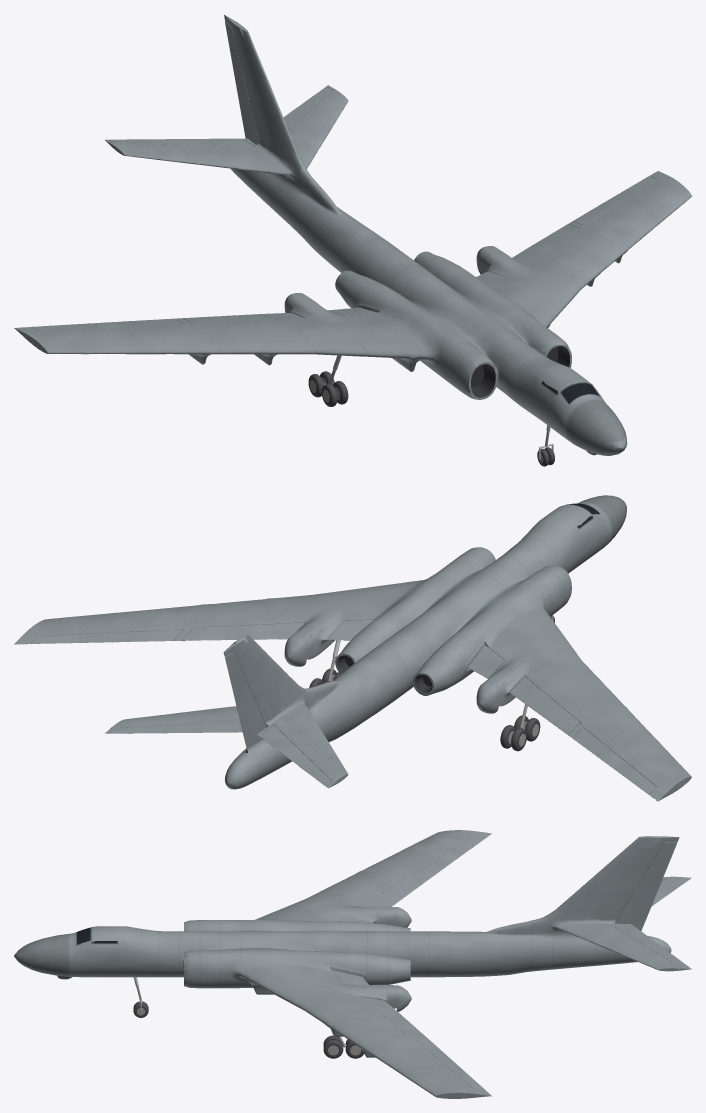
The picture shows the model from 3 angles, top to bottom: view 1: azimuth 30°, elevation 25°; view 2: azimuth 150°, elevation 25°; view 3: azimuth 270°, elevation 25°; orthographic projection. The views are drawn at different scales.
Visible parts, largest first — view 1: airframe, fsim:flaps (×2), fsim:aileron (×2), fsim:rudder, fsim:elevator; view 2: airframe, fsim:flaps (×4), fsim:aileron (×2), fsim:elevator (×2), fsim:rudder, fsim:wheel:2:0.525; view 3: airframe, fsim:rudder, fsim:flaps (×2), fsim:aileron (×2), fsim:elevator.
Boxes of the visible parts, left/top/right/bottom form: airframe: left=14, top=14, right=691, bottom=455; fsim:flaps (×2): left=182, top=224, right=579, bottom=322; fsim:aileron (×2): left=31, top=176, right=656, bottom=330; fsim:rudder: left=225, top=21, right=258, bottom=144; fsim:elevator: left=109, top=138, right=254, bottom=146; airframe: left=14, top=495, right=691, bottom=801; fsim:flaps (×4): left=182, top=619, right=579, bottom=734; fsim:aileron (×2): left=31, top=629, right=656, bottom=794; fsim:elevator (×2): left=109, top=721, right=331, bottom=786; fsim:rudder: left=225, top=652, right=266, bottom=748; fsim:wheel:2:0.525: left=500, top=725, right=526, bottom=751; airframe: left=14, top=830, right=691, bottom=1098; fsim:rudder: left=614, top=842, right=677, bottom=930; fsim:flaps (×2): left=360, top=877, right=426, bottom=1037; fsim:aileron (×2): left=413, top=836, right=485, bottom=1090; fsim:elevator: left=612, top=924, right=689, bottom=967.
Size of the model in its own units: 32.91 by 10.51 by 35.89.
Materials: 5 (1 with a texture image).
